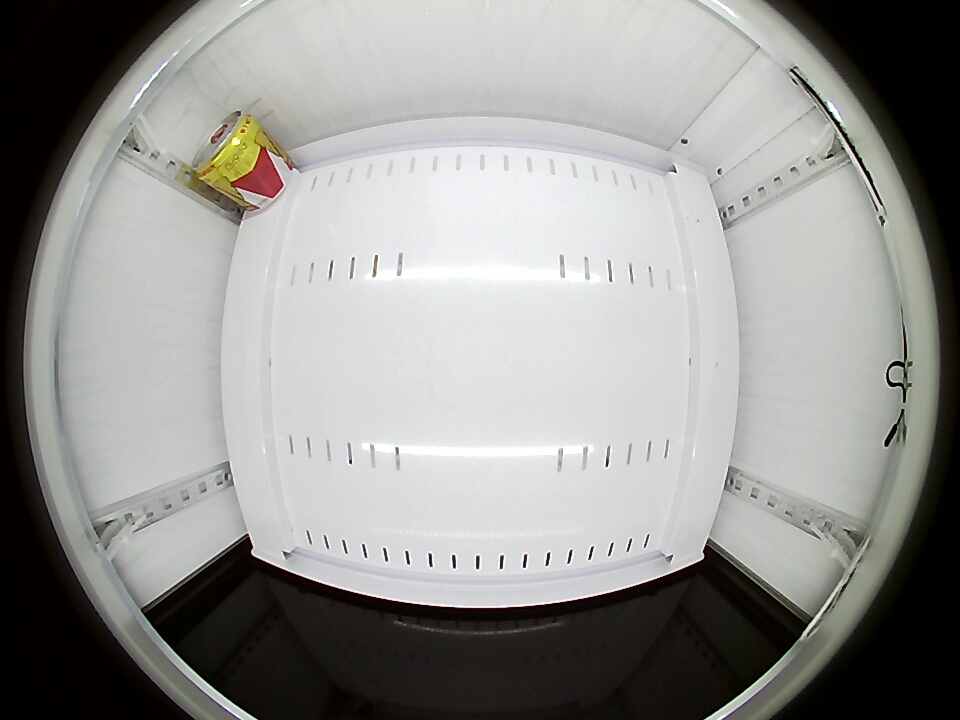dongpeng: (192, 111, 261, 186)
